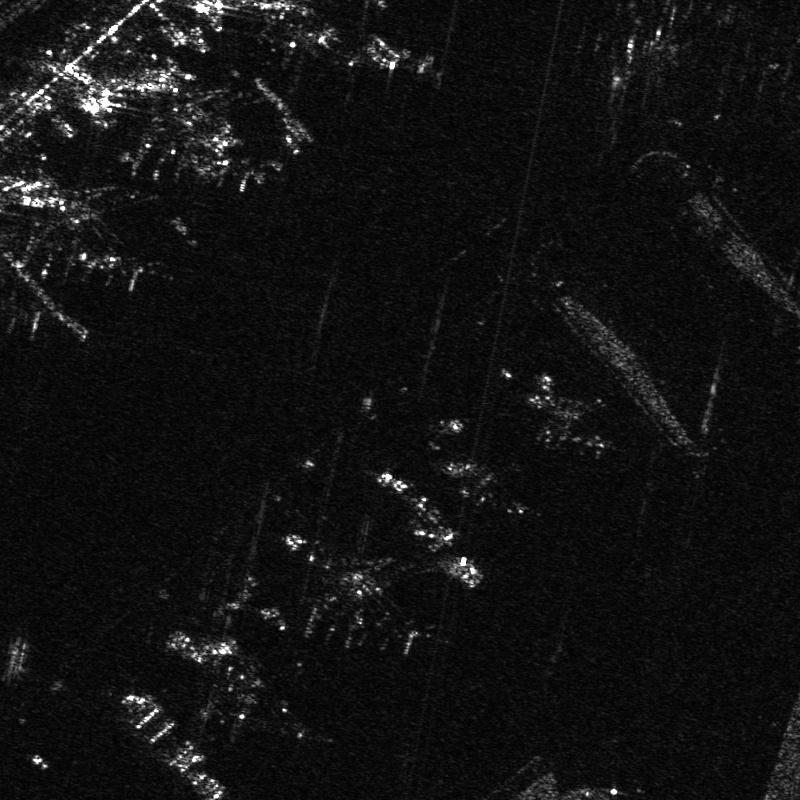Boeing737: (123, 88, 272, 198), (531, 369, 618, 457), (448, 452, 532, 522)
other: (181, 628, 334, 749), (287, 533, 439, 653), (20, 182, 155, 283)
